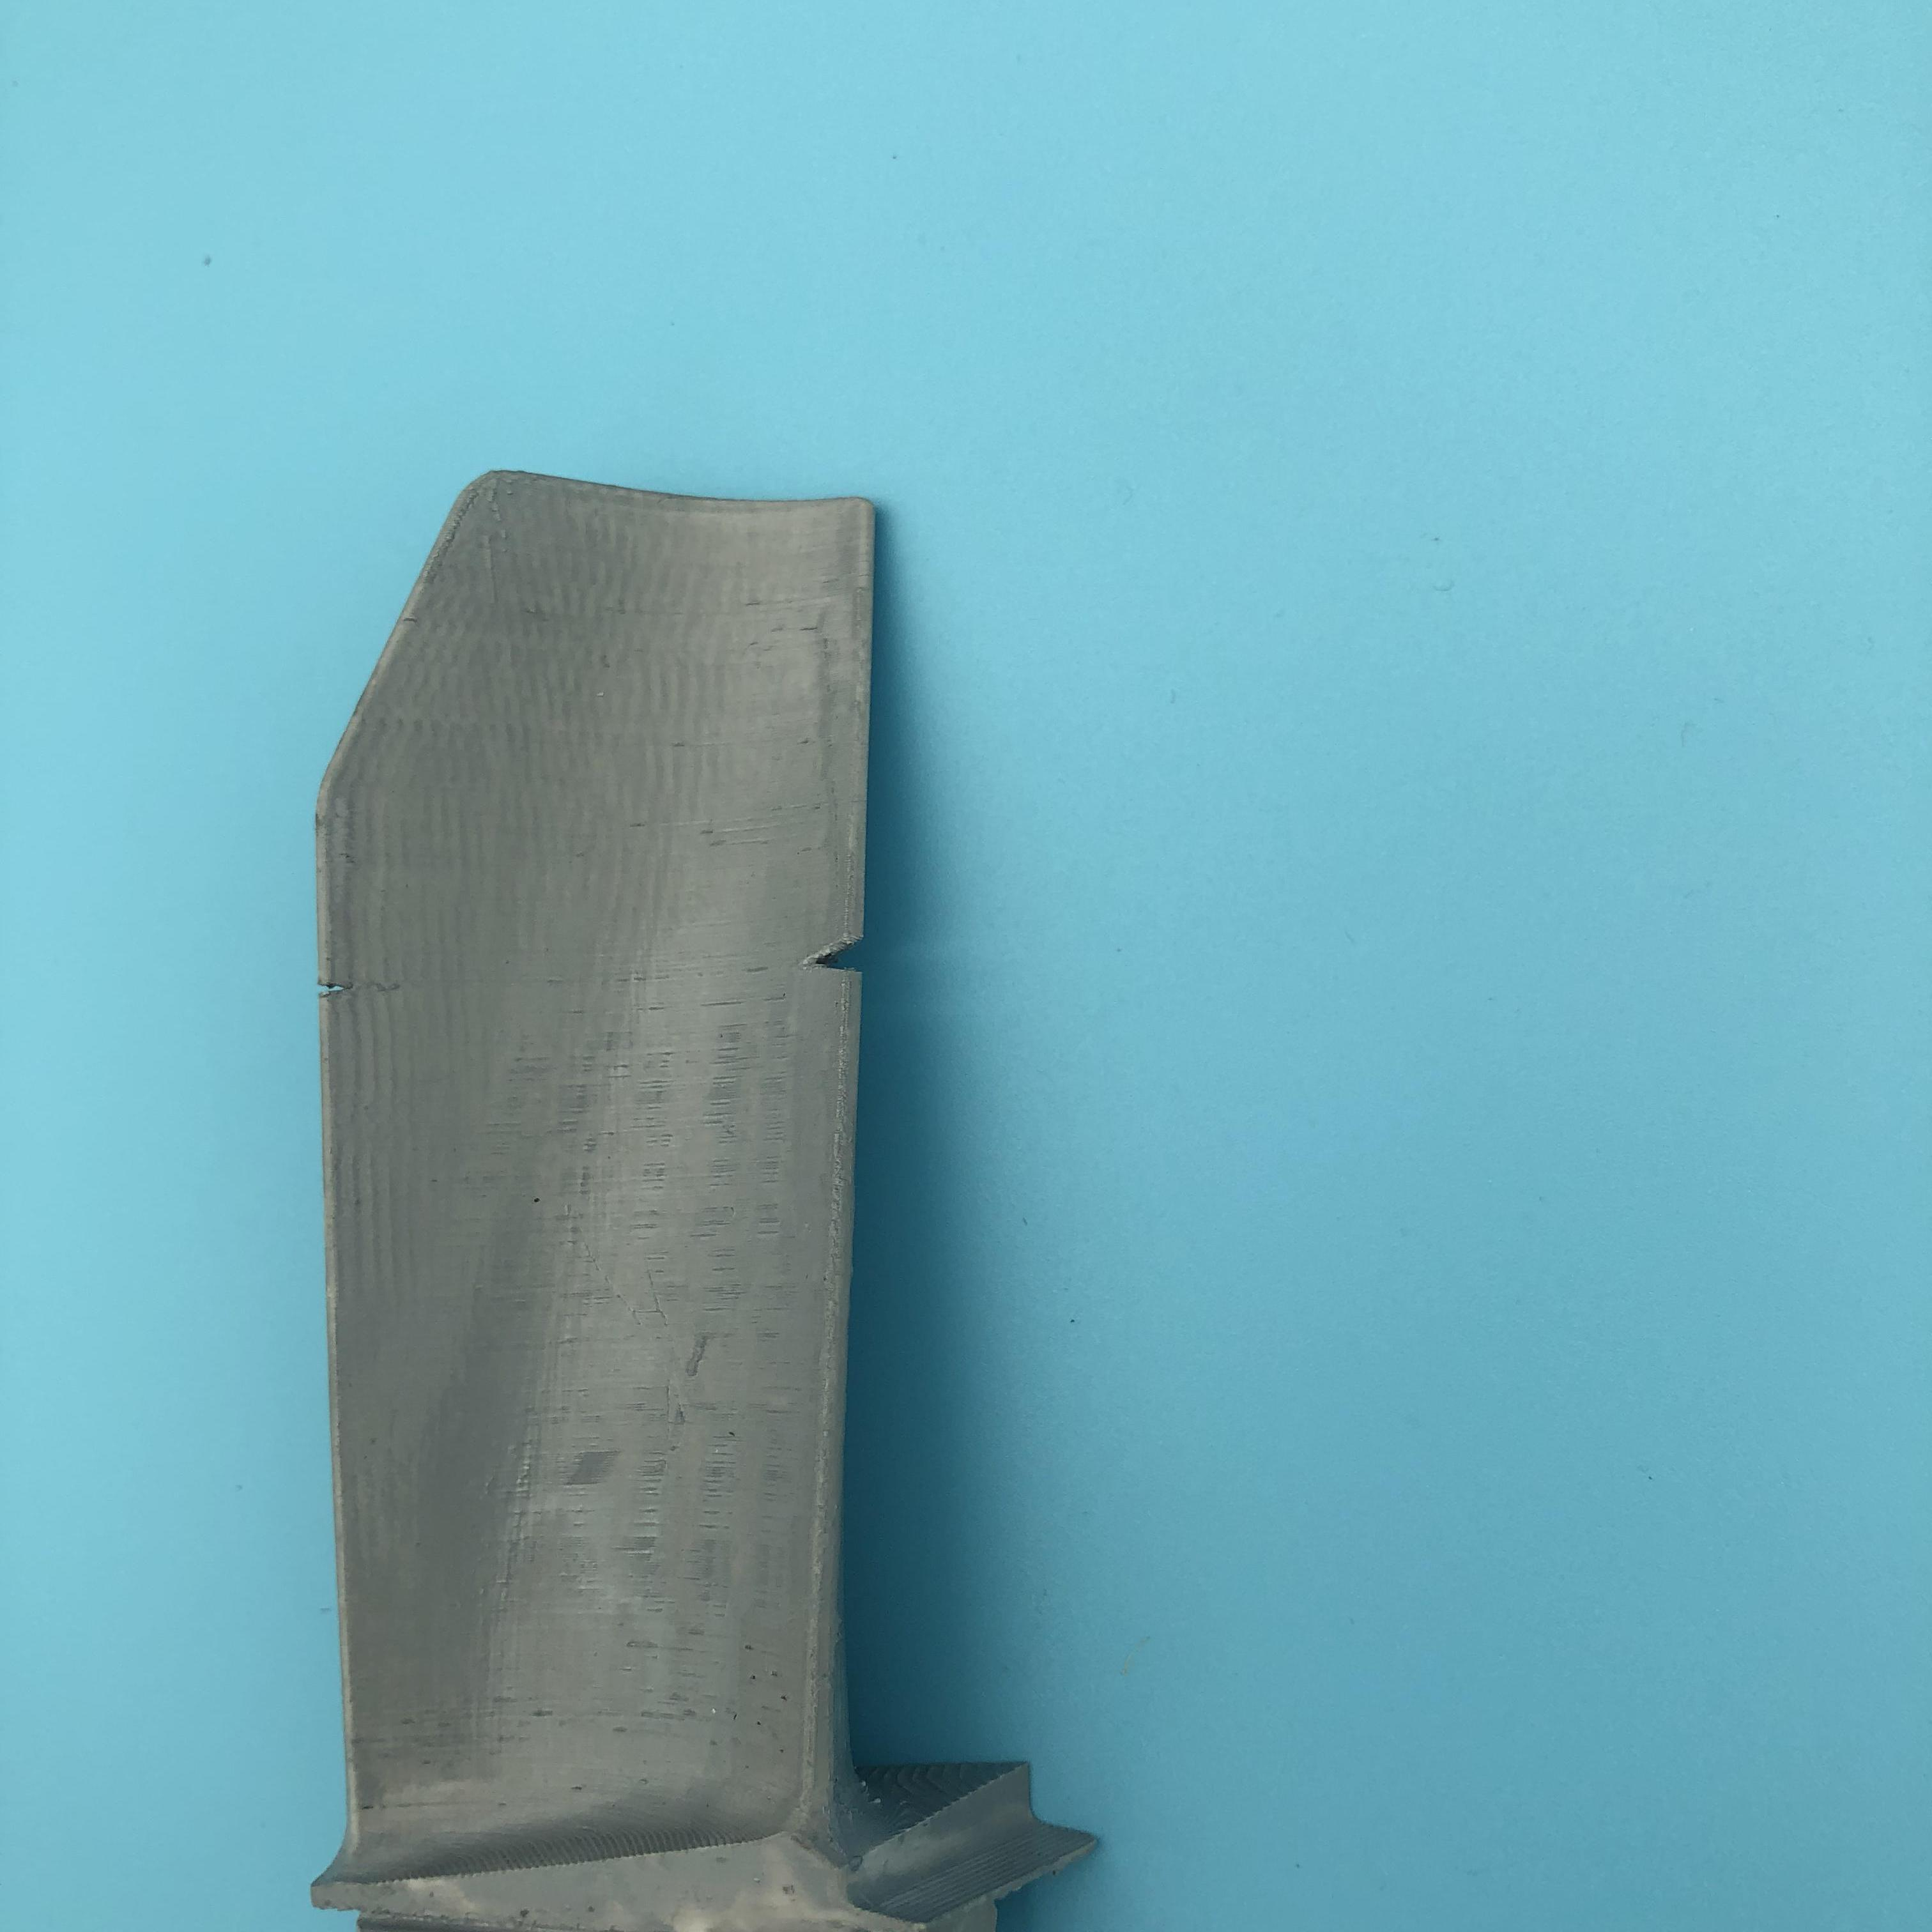groove: (803, 924, 858, 993), (322, 961, 361, 1010)
